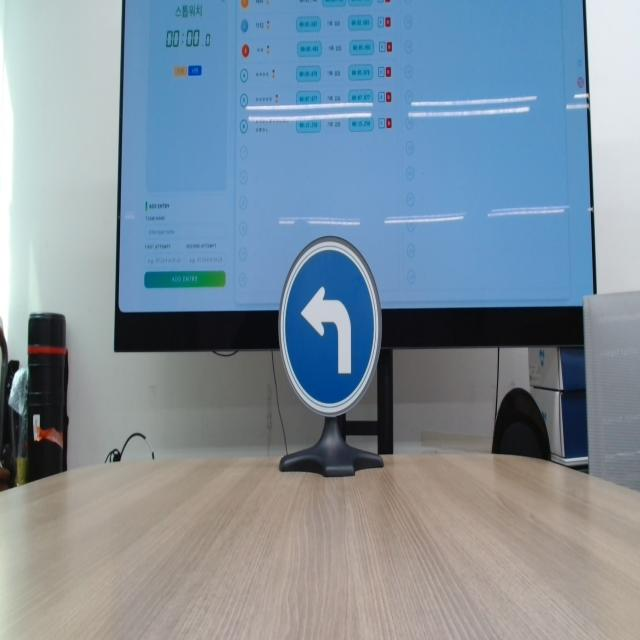left_direction: (271, 200, 411, 437)
